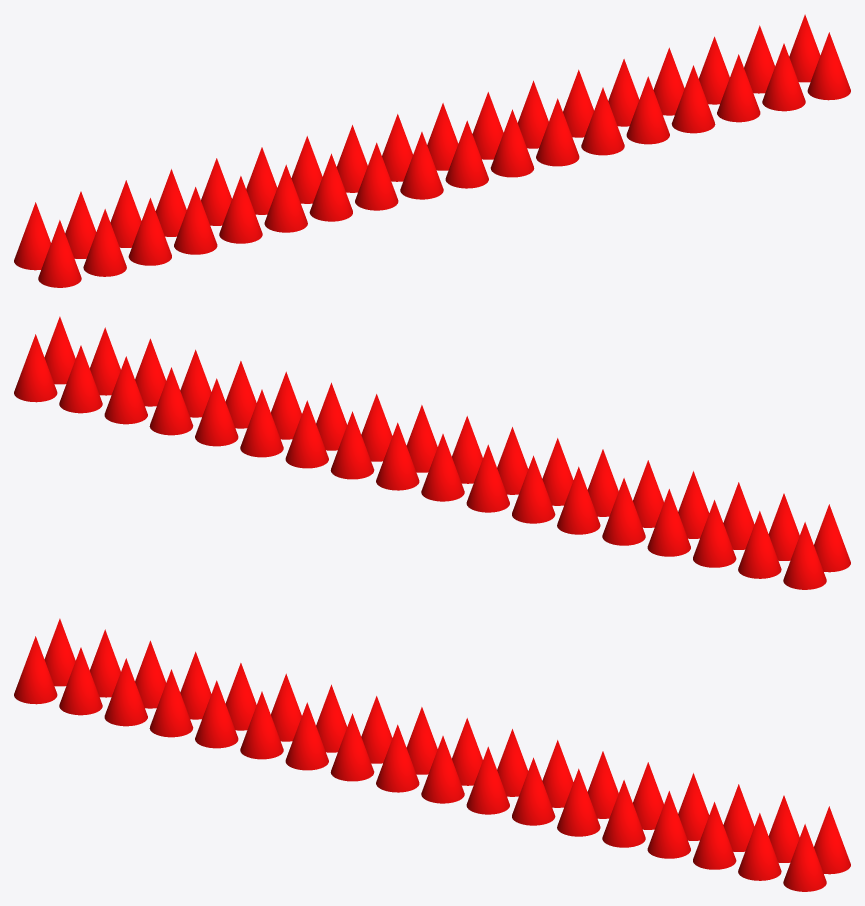
File: Spike_001.fbx
3 renders of one model, top to bottom at view 1: azimuth 30°, elevation 25°; view 2: azimuth 150°, elevation 25°; view 3: azimuth 330°, elevation 25°, orthographic.
Parts seen in each view (by area): view 1: Spike; view 2: Spike; view 3: Spike.
Boxes of the visible parts, x1,y1,x2,y2 form: Spike: [14, 14, 850, 287]; Spike: [14, 316, 850, 589]; Spike: [14, 618, 850, 891].
Size of the model in its own units: 770 by 54 by 76.
